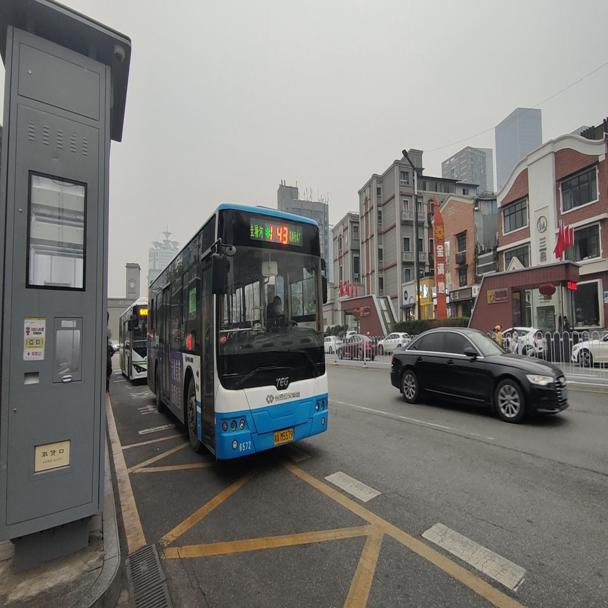bus: (143, 201, 325, 465), (118, 306, 147, 383)
screen: (268, 225, 289, 243)
